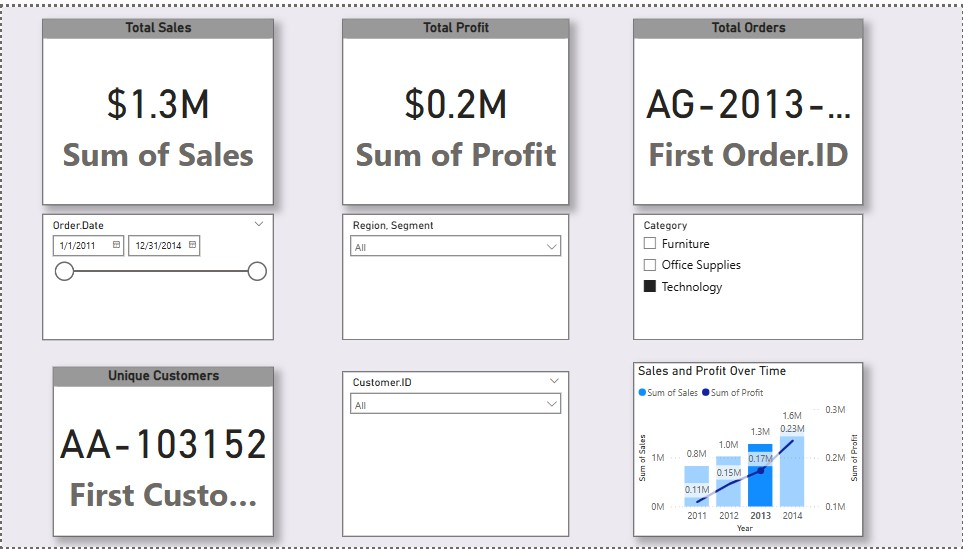

What the dashboard file says about the page in this screenshot:
{"tool":"powerbi","page":{"name":"Page 1","canvas":[1280,720],"ordinal":0},"visuals":[{"type":"card","title":"Total Sales","fields":{"Values":["Sum(cleaned_superstore (1).Sales)"]},"box":[54,16,308,248],"z":0},{"type":"card","title":"Unique Customers","fields":{"Values":["Min(cleaned_superstore (1).Customer.ID)"]},"box":[68,480,294,226],"z":1000},{"type":"card","title":"Total Profit","fields":{"Values":["Sum(cleaned_superstore (1).Profit)"]},"box":[454,16,302,248],"z":2000},{"type":"card","title":"Total Orders","fields":{"Values":["Min(cleaned_superstore (1).Order.ID)"]},"box":[842,16,306,248],"z":4000},{"type":"lineClusteredColumnComboChart","title":"Sales and Profit Over Time","fields":{"Category":["cleaned_superstore (1).Order.Date.Variation.Date Hierarchy.Year"],"Y":["Sum(cleaned_superstore (1).Sales)"],"Y2":["Sum(cleaned_superstore (1).Profit)"]},"box":[842,474,306,232],"z":5000},{"type":"slicer","fields":{"Values":["cleaned_superstore (1).Order.Date"]},"box":[54,276,308,168],"z":5001},{"type":"slicer","fields":{"Values":["cleaned_superstore (1).Region","cleaned_superstore (1).Segment"]},"box":[454,276,302,168],"z":5002},{"type":"slicer","fields":{"Values":["cleaned_superstore (1).Category"]},"box":[842,276,306,168],"z":5003},{"type":"slicer","fields":{"Values":["cleaned_superstore (1).Customer.ID"]},"box":[454,486,302,220],"z":5004}]}

Visuals, with their boxes in screenshot pixels (x1, y1, x2, y2), scaled from the page's 1280x720 canvas onto the 963x549 screenshot:
"Total Sales" card: x1=41 y1=12 x2=272 y2=201
"Unique Customers" card: x1=51 y1=366 x2=272 y2=538
"Total Profit" card: x1=342 y1=12 x2=569 y2=201
"Total Orders" card: x1=633 y1=12 x2=864 y2=201
"Sales and Profit Over Time" lineClusteredColumnComboChart: x1=633 y1=361 x2=864 y2=538
slicer - cleaned_superstore (1).Order.Date: x1=41 y1=210 x2=272 y2=339
slicer - cleaned_superstore (1).Region x cleaned_superstore (1).Segment: x1=342 y1=210 x2=569 y2=339
slicer - cleaned_superstore (1).Category: x1=633 y1=210 x2=864 y2=339
slicer - cleaned_superstore (1).Customer.ID: x1=342 y1=371 x2=569 y2=538
